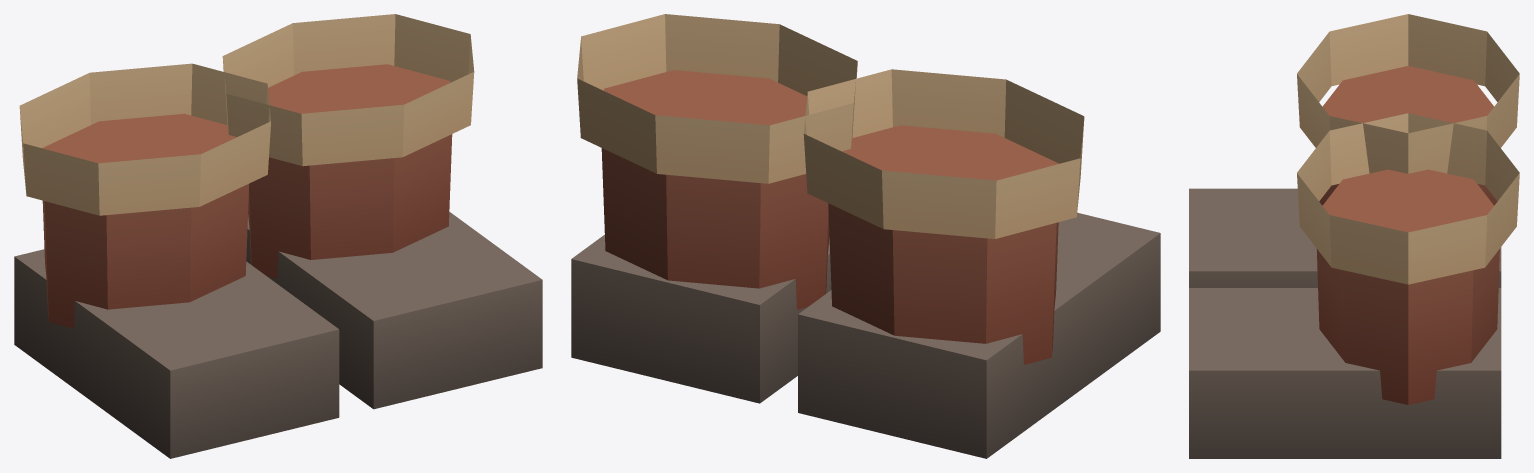
File: berserker_hunter_boots_t1.glb
3 renders of one model, left to right at view 1: azimuth 30°, elevation 25°; view 2: azimuth 150°, elevation 25°; view 3: azimuth 270°, elevation 25°, orthographic. The views are drawn at different scales.
Parts seen in each view (by area): view 1: berserker_hunter_boots_t1__lowerleg_r, berserker_hunter_boots_t1__lowerleg_l, berserker_hunter_boots_t1__foot_r, berserker_hunter_boots_t1__foot_l; view 2: berserker_hunter_boots_t1__lowerleg_r, berserker_hunter_boots_t1__lowerleg_l, berserker_hunter_boots_t1__foot_r, berserker_hunter_boots_t1__foot_l; view 3: berserker_hunter_boots_t1__lowerleg_l, berserker_hunter_boots_t1__foot_l, berserker_hunter_boots_t1__lowerleg_r, berserker_hunter_boots_t1__foot_r.
Boxes of the visible parts, <box> form: berserker_hunter_boots_t1__lowerleg_r: <box>19,63,271,328</box>; berserker_hunter_boots_t1__lowerleg_l: <box>222,14,474,278</box>; berserker_hunter_boots_t1__foot_r: <box>14,249,339,458</box>; berserker_hunter_boots_t1__foot_l: <box>246,212,542,409</box>; berserker_hunter_boots_t1__lowerleg_r: <box>803,69,1084,364</box>; berserker_hunter_boots_t1__lowerleg_l: <box>577,14,857,309</box>; berserker_hunter_boots_t1__foot_r: <box>798,212,1160,458</box>; berserker_hunter_boots_t1__foot_l: <box>571,234,831,403</box>; berserker_hunter_boots_t1__lowerleg_l: <box>1297,113,1519,404</box>; berserker_hunter_boots_t1__foot_l: <box>1189,288,1501,458</box>; berserker_hunter_boots_t1__lowerleg_r: <box>1297,14,1519,205</box>; berserker_hunter_boots_t1__foot_r: <box>1189,188,1501,287</box>.
Size of the model in its own units: 1.5 by 0.7825 by 0.9579.
1 material, 1 textured.
